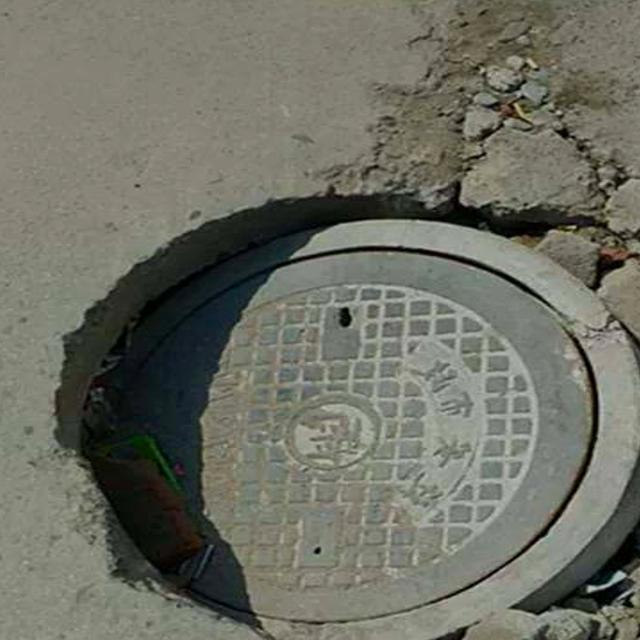circle: (56, 42, 640, 640)
